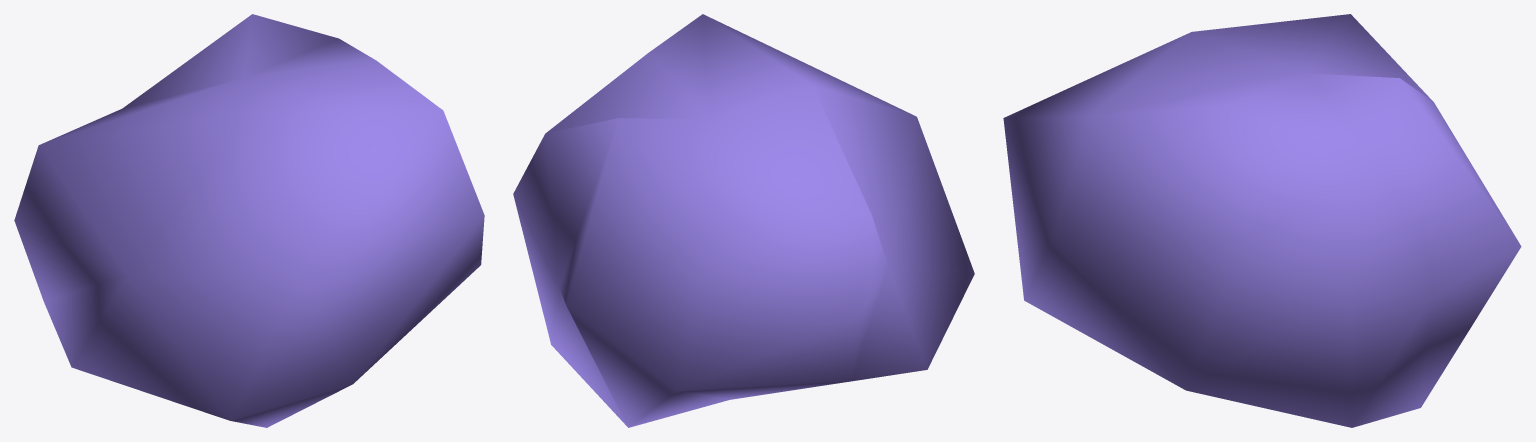
File: ore.glb
3 renders of one model, left to right at view 1: azimuth 30°, elevation 25°; view 2: azimuth 150°, elevation 25°; view 3: azimuth 270°, elevation 25°, orthographic. The views are drawn at different scales.
Parts seen in each view (by area): view 1: Icosphere; view 2: Icosphere; view 3: Icosphere.
Boxes of the visible parts, x1,y1,x2,y2 form: Icosphere: [14, 14, 484, 427]; Icosphere: [513, 14, 974, 427]; Icosphere: [1003, 14, 1521, 427].
Bounding box in the file's own units: 0.334 × 0.2575 × 0.3513.
